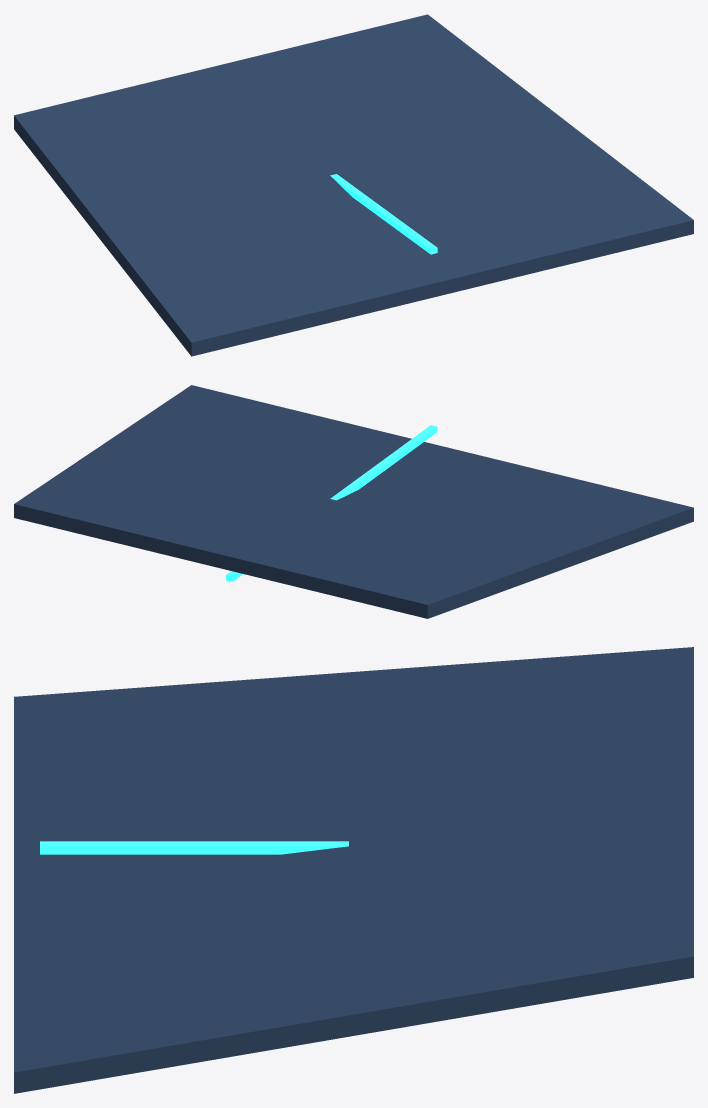
The model's file is Frontier_FieldShelter_Canopy.glb.
3 renders of one model, top to bottom at view 1: azimuth 30°, elevation 25°; view 2: azimuth 150°, elevation 25°; view 3: azimuth 270°, elevation 25°, orthographic. The views are drawn at different scales.
Visible parts, largest first — view 1: Frontier_FieldShelter_Canopy; view 2: Frontier_FieldShelter_Canopy; view 3: Frontier_FieldShelter_Canopy.
Boxes of the visible parts, x1,y1,x2,y2 form: Frontier_FieldShelter_Canopy: [14, 14, 693, 356]; Frontier_FieldShelter_Canopy: [14, 385, 693, 618]; Frontier_FieldShelter_Canopy: [14, 647, 693, 1093].
Size of the model in its own units: 3.4 by 0.44 by 2.6.
